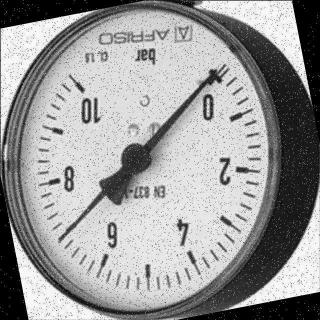gauge: (0, 0, 282, 320), (188, 58, 232, 104), (60, 68, 103, 112), (116, 139, 155, 179), (202, 64, 222, 83), (52, 231, 68, 247)
